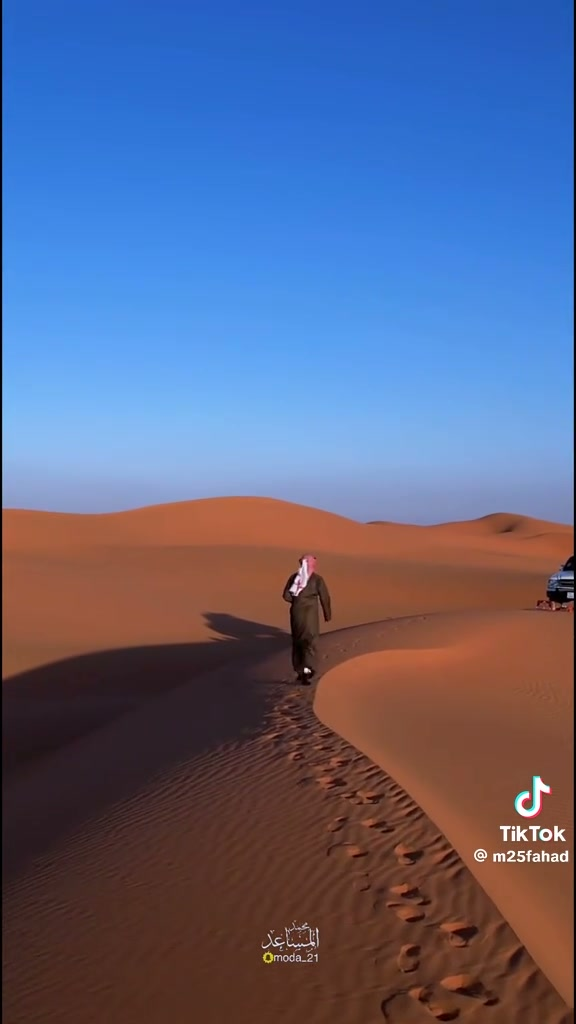human: (283, 555, 331, 684)
human_foot_print: (297, 726, 457, 974), (274, 709, 417, 893), (381, 973, 498, 1023), (380, 986, 459, 1023), (373, 883, 429, 922), (440, 973, 498, 1005), (409, 986, 459, 1021), (385, 883, 428, 922), (440, 921, 477, 947), (389, 882, 429, 905), (386, 901, 425, 923), (396, 943, 419, 973), (326, 842, 367, 858), (394, 843, 423, 865), (359, 817, 393, 833), (316, 775, 345, 789), (356, 790, 383, 804), (353, 871, 371, 892), (326, 816, 348, 832), (259, 730, 284, 744), (328, 755, 349, 768), (312, 742, 331, 753), (287, 749, 304, 761)
